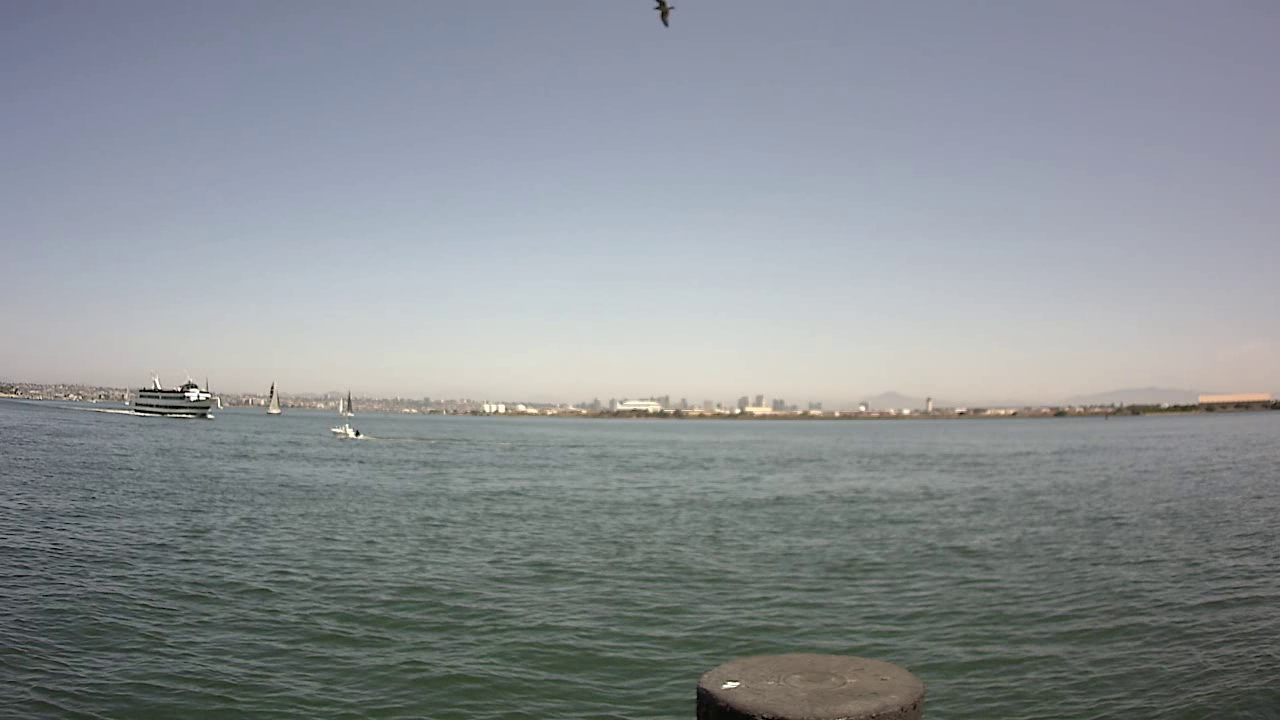target: (323, 416, 370, 446)
